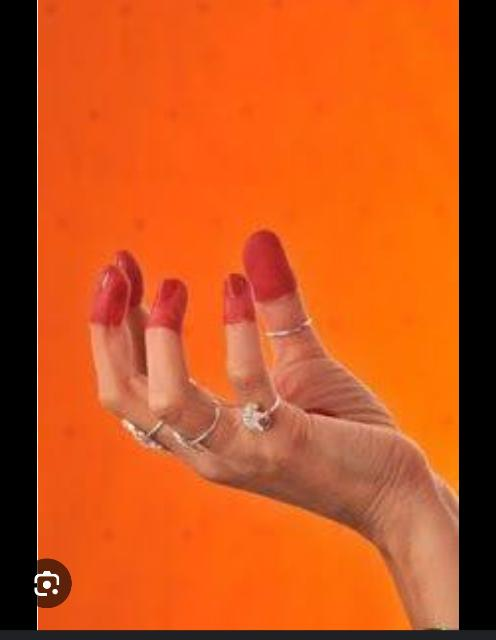padamkosh: (87, 232, 460, 626)
